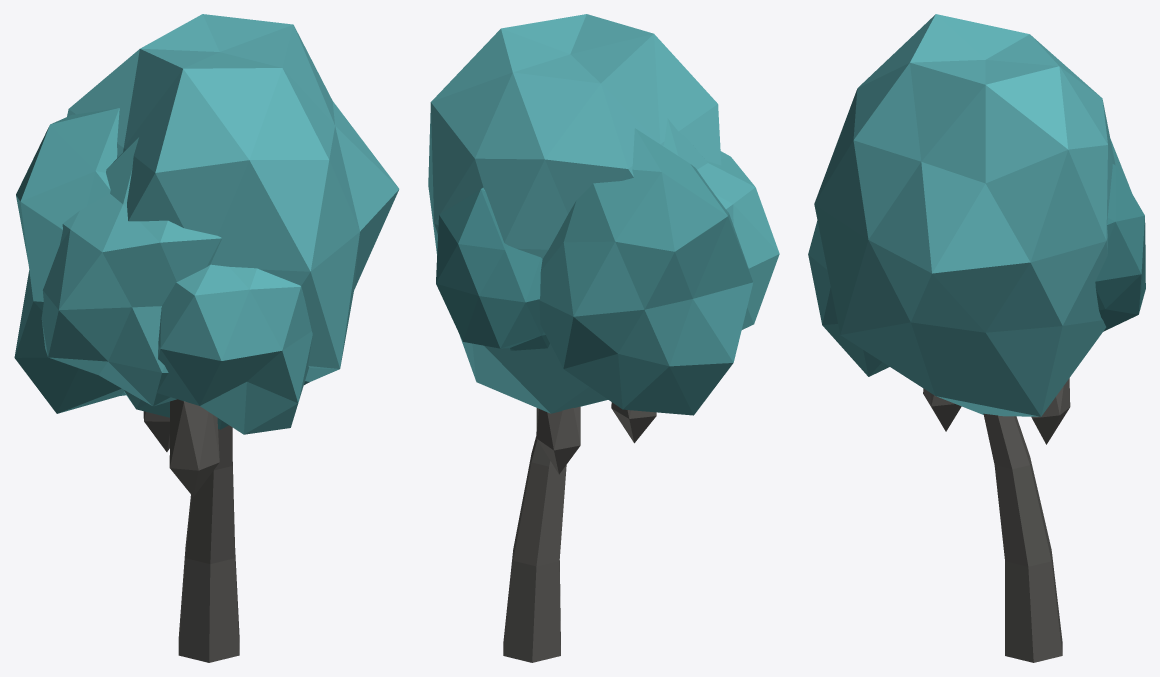
File: tree_silverwillow.glb
3 views of the same model, side by side, from view 1: azimuth 30°, elevation 25°; view 2: azimuth 150°, elevation 25°; view 3: azimuth 270°, elevation 25° (orthographic). The views are drawn at different scales.
Visible parts, largest first — view 1: tree_silverwillow; view 2: tree_silverwillow; view 3: tree_silverwillow.
Part boxes in pixels (x1,y1,x2,y2): tree_silverwillow: (14, 14, 399, 662); tree_silverwillow: (428, 14, 779, 662); tree_silverwillow: (808, 14, 1145, 662).
Size of the model in its own units: 2.91 by 5.16 by 2.64.
1 material, 1 textured.
